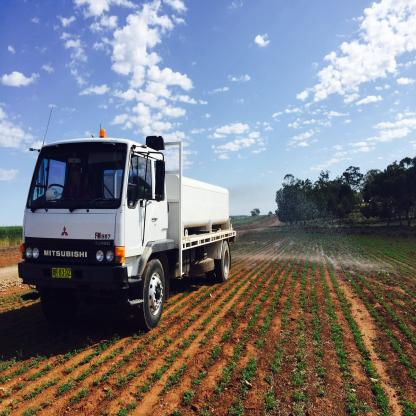truck: (18, 136, 239, 329)
